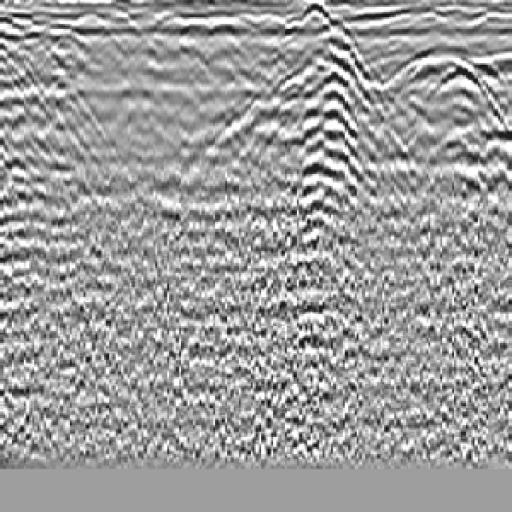non-metallic: (254, 9, 407, 280), (356, 38, 512, 208)
